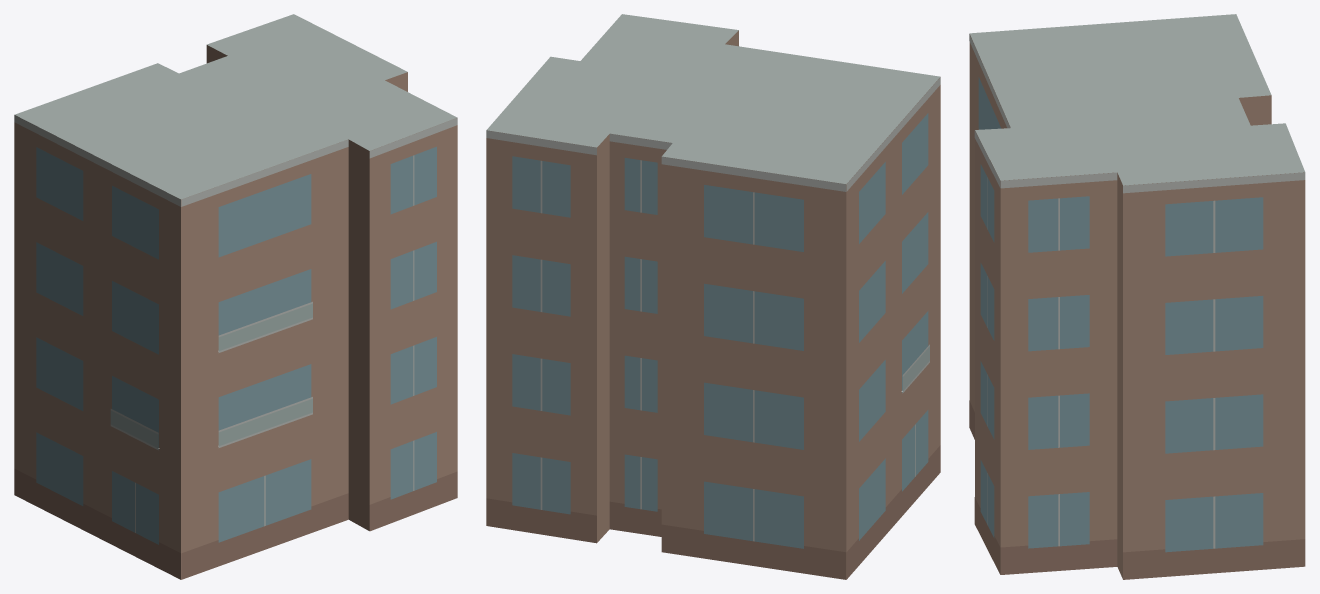
File: survey-upis-32701796.glb
The picture shows the model from 3 angles, left to right: view 1: azimuth 30°, elevation 25°; view 2: azimuth 150°, elevation 25°; view 3: azimuth 270°, elevation 25°; orthographic projection. The views are drawn at different scales.
Visible parts, largest first — view 1: survey-upis-32701796.tmp; view 2: survey-upis-32701796.tmp; view 3: survey-upis-32701796.tmp.
Part boxes in pixels (x1,y1,x2,y2): survey-upis-32701796.tmp: (14, 14, 457, 579); survey-upis-32701796.tmp: (486, 14, 940, 579); survey-upis-32701796.tmp: (969, 14, 1305, 579).
Bounding box in the file's own units: 11.58 × 12.4 × 9.58.
